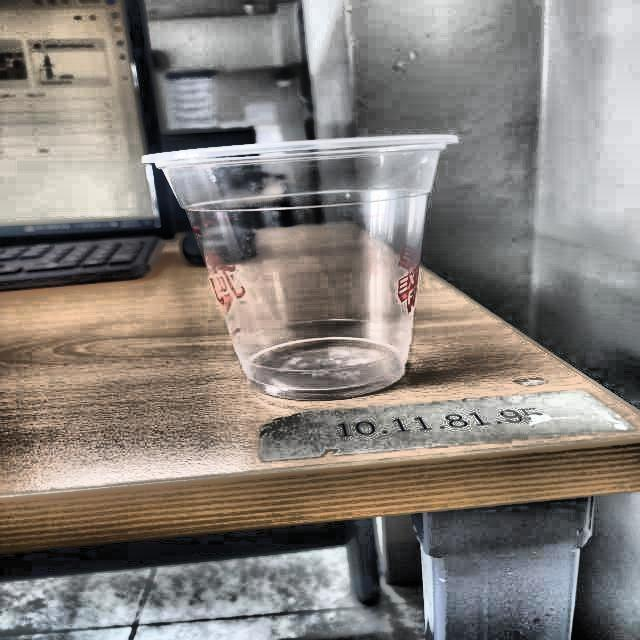plastic cup: (141, 131, 463, 400)
